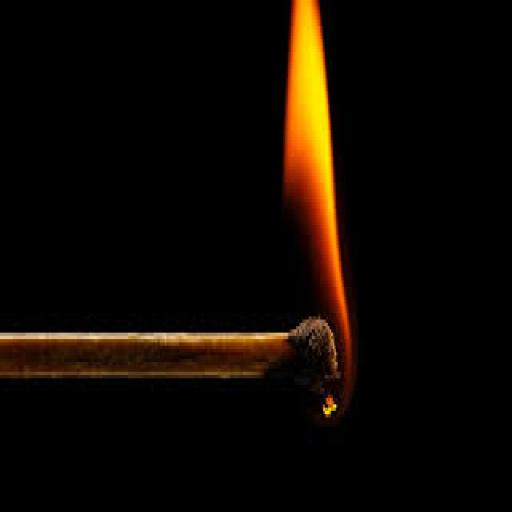fire: (285, 3, 376, 440), (266, 3, 328, 326)
